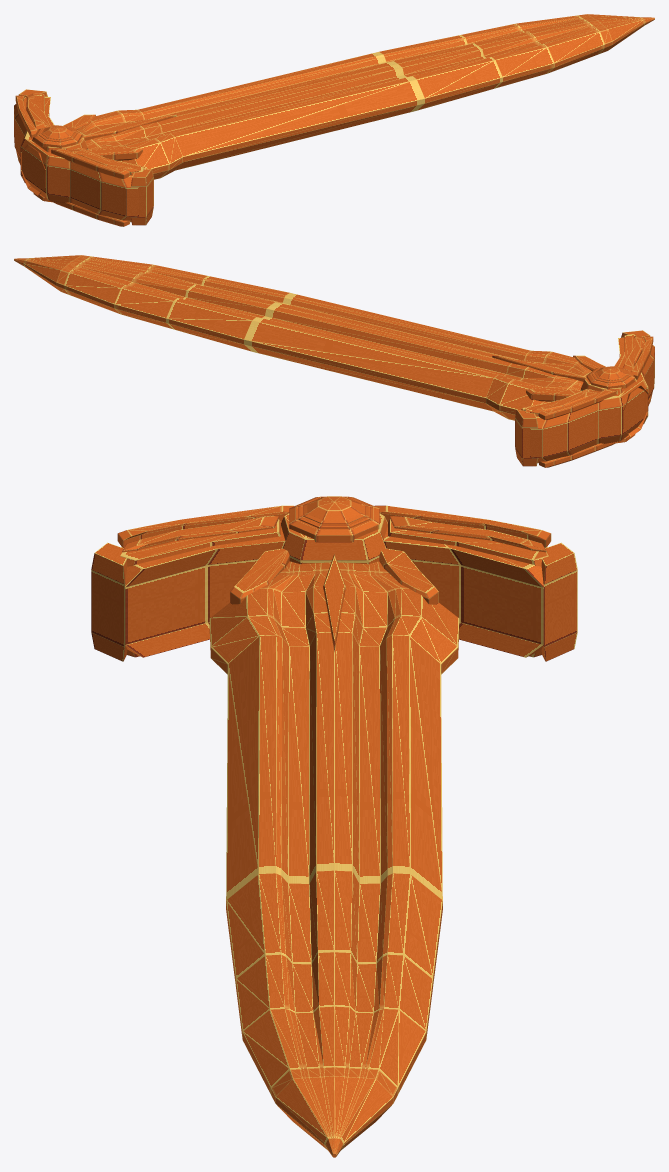
File: bench_jindan_jinwu_sword_1_hot.obj
3 renders of one model, top to bottom at view 1: azimuth 30°, elevation 25°; view 2: azimuth 150°, elevation 25°; view 3: azimuth 270°, elevation 25°, orthographic. The views are drawn at different scales.
Visible parts, largest first — view 1: geometry; view 2: geometry; view 3: geometry.
Part boxes in pixels (box(x1,y1,x2,y2)): geometry: box(14, 14, 654, 226); geometry: box(14, 255, 654, 467); geometry: box(91, 496, 577, 1157).
Bounding box in the file's own units: 0.75 × 0.0832 × 0.2542.
